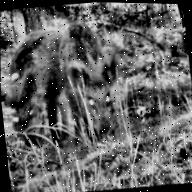boar: (50, 14, 135, 154), (0, 19, 75, 157)
